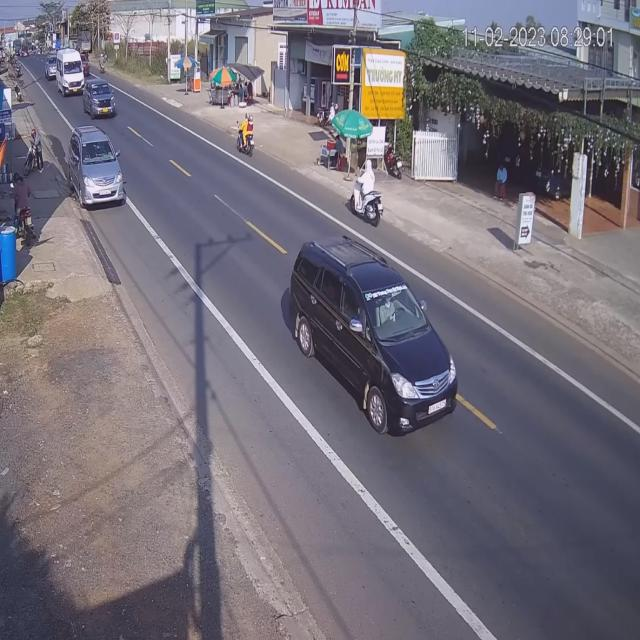bus: (58, 49, 86, 97)
car: (286, 228, 462, 435), (67, 125, 127, 209), (84, 80, 116, 120), (44, 55, 56, 82)
motorbike: (348, 175, 384, 228), (237, 115, 256, 159)
